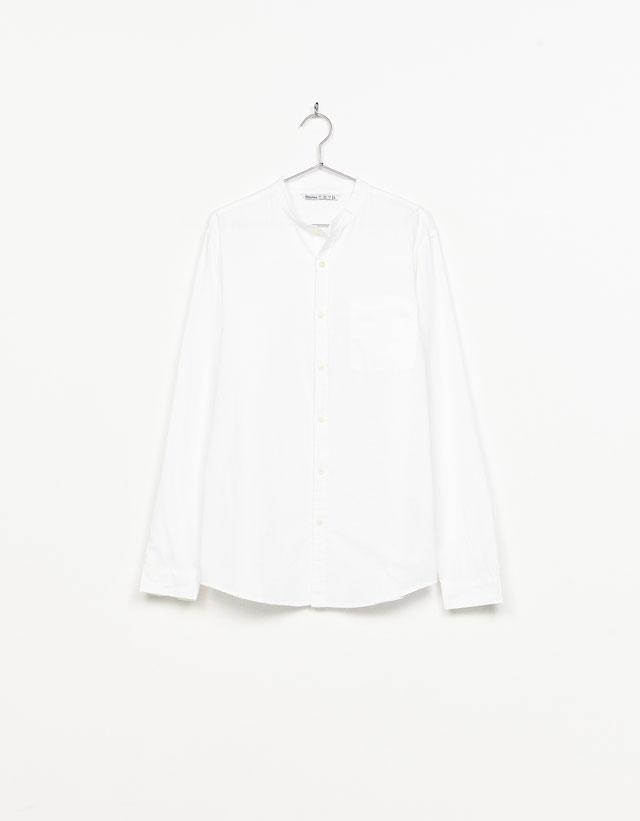teeshirt: (143, 167, 523, 641)
